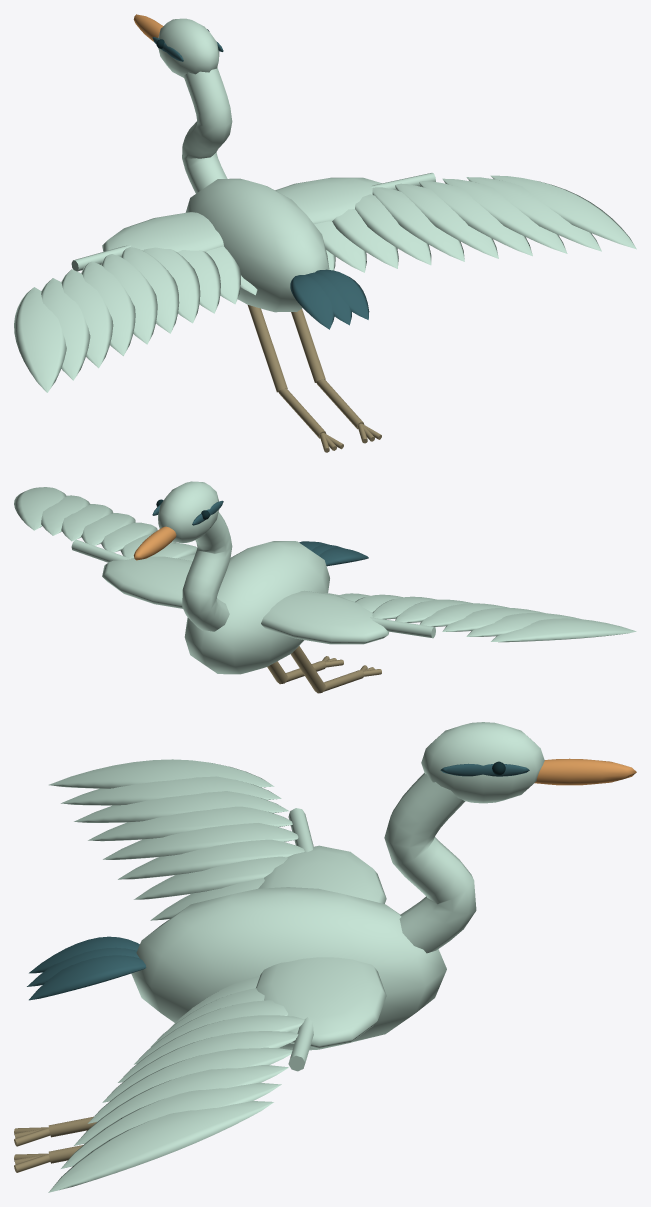
File: reed-heron.glb
3 renders of one model, top to bottom at view 1: azimuth 30°, elevation 25°; view 2: azimuth 150°, elevation 25°; view 3: azimuth 270°, elevation 25°, orthographic. The views are drawn at different scales.
Parts seen in each view (by area): view 1: wing-left, wing-right, body, neck, tail, head, leg-0, leg-1; view 2: wing-left, body, wing-right, neck, head, leg-0, tail, beak, leg-1; view 3: wing-right, wing-left, body, neck, head, tail, beak, leg-0, leg-1, face-stripe.
Part boxes in pixels (x1,y1,x2,y2): wing-left: (14, 212, 257, 392); wing-right: (275, 173, 636, 272); body: (185, 178, 329, 312); neck: (182, 67, 232, 193); tail: (290, 269, 369, 329); head: (158, 18, 219, 77); leg-0: (247, 305, 343, 452); leg-1: (291, 309, 381, 443); wing-left: (261, 590, 636, 644); body: (184, 541, 329, 674); wing-right: (14, 487, 196, 608); neck: (182, 512, 232, 631); head: (158, 481, 219, 542); leg-0: (290, 646, 381, 693); tail: (299, 541, 368, 566); beak: (133, 526, 176, 560); leg-1: (267, 656, 343, 684); wing-right: (48, 957, 386, 1192); wing-left: (49, 759, 386, 920); body: (131, 887, 446, 1050); neck: (384, 773, 476, 953); head: (421, 722, 544, 803); tail: (27, 936, 146, 1000); beak: (534, 758, 636, 785); leg-0: (14, 1116, 96, 1146); leg-1: (14, 1145, 82, 1172); face-stripe: (440, 763, 529, 776).
Bounding box in the file's own units: 2.81 × 1.37 × 1.8.
